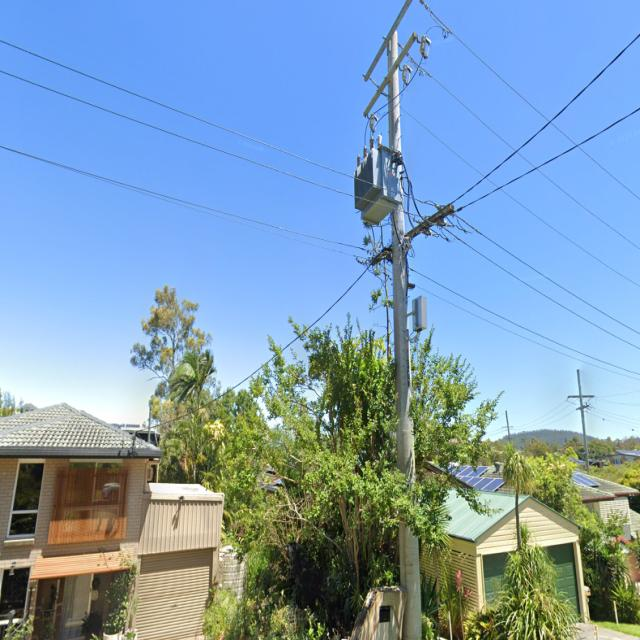HV-transmission: (362, 0, 426, 133)
LV link: (435, 218, 476, 235), (422, 229, 458, 243)
crossarm: (370, 204, 455, 265), (362, 30, 420, 117), (365, 0, 412, 82)
timber-pole: (389, 29, 423, 640)
transformer: (353, 137, 399, 225)
